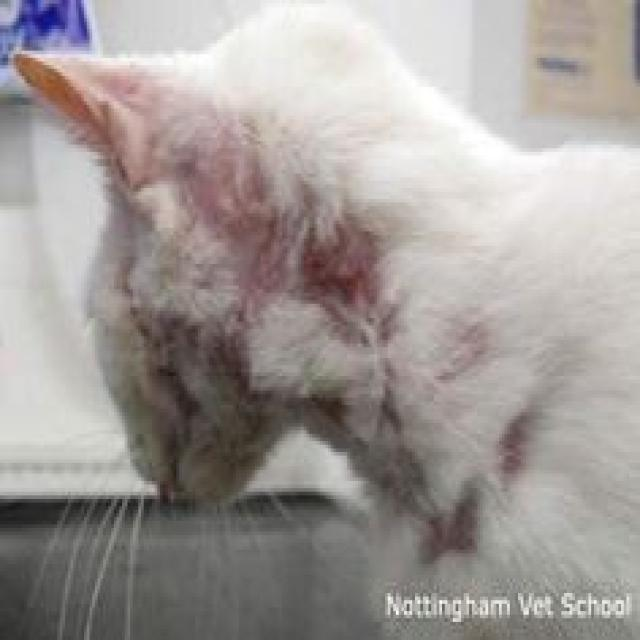hac lao: (289, 176, 411, 356)
